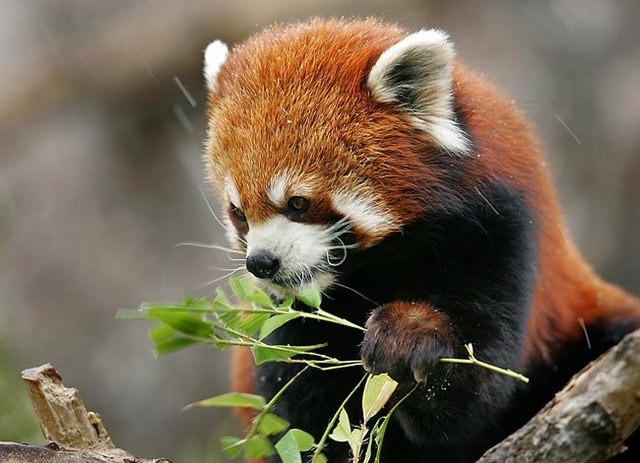red_panda: (191, 20, 579, 451)
